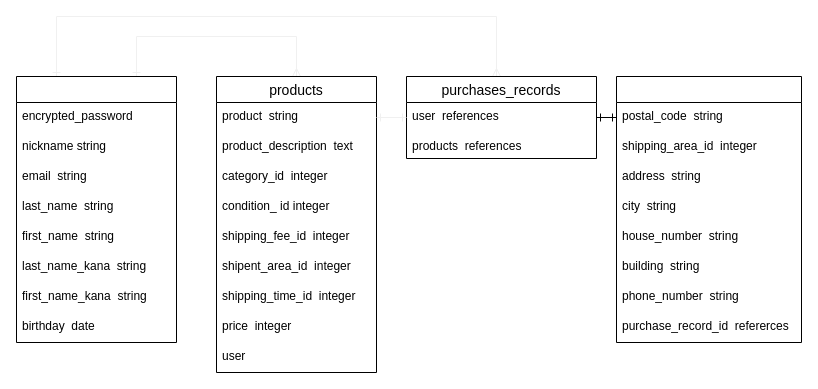
Image size: 818x389. Some labels were removed from this diagram. The box of each missing label's shape, as (x1, y1, x2, y2) in pixels:
deliveries: (616, 76, 802, 342)
users: (16, 76, 176, 342)
